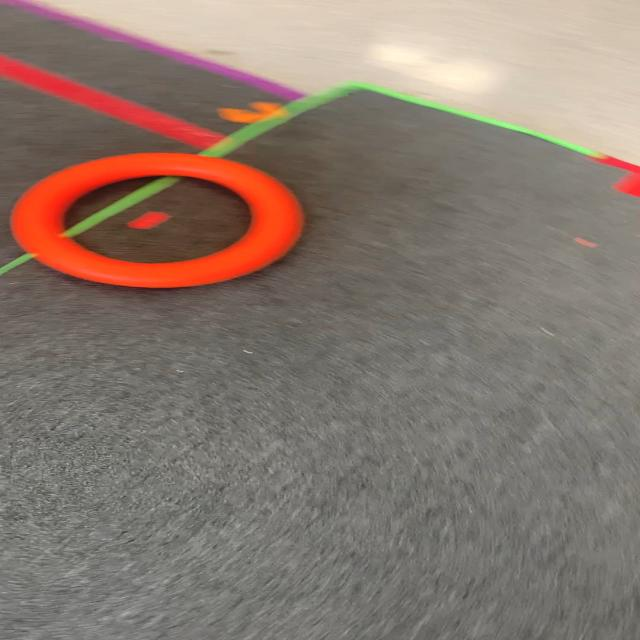notes: (13, 150, 305, 290)
